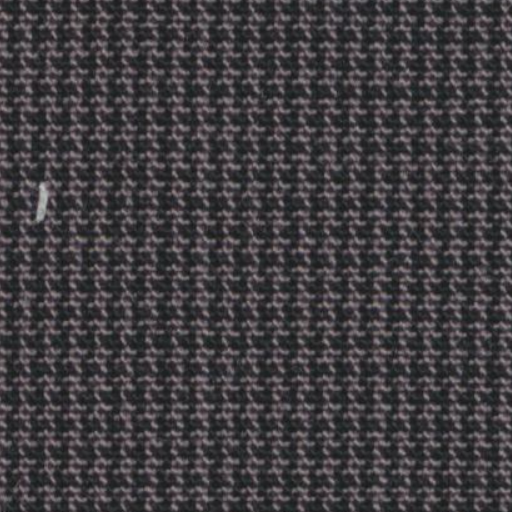DuanSha: (22, 164, 58, 236)
